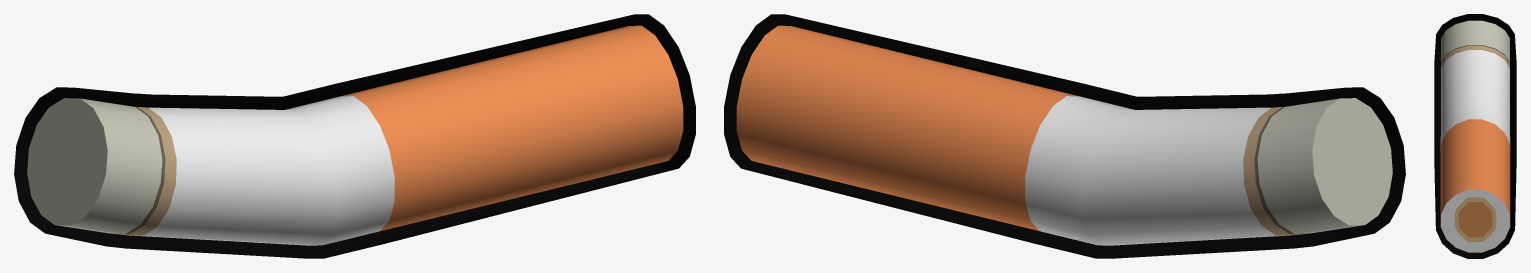
Rendered from smoke.glb.
3 views of the same model, side by side, from view 1: azimuth 30°, elevation 25°; view 2: azimuth 150°, elevation 25°; view 3: azimuth 270°, elevation 25° (orthographic). The views are drawn at different scales.
Visible parts, largest first — view 1: Cylinder.013; view 2: Cylinder.013; view 3: Cylinder.013.
Part boxes in pixels (x1,y1,x2,y2): Cylinder.013: [14, 14, 695, 258]; Cylinder.013: [724, 14, 1405, 258]; Cylinder.013: [1434, 14, 1516, 258].
Size of the model in its own units: 0.3563 by 0.1165 by 0.0818.
